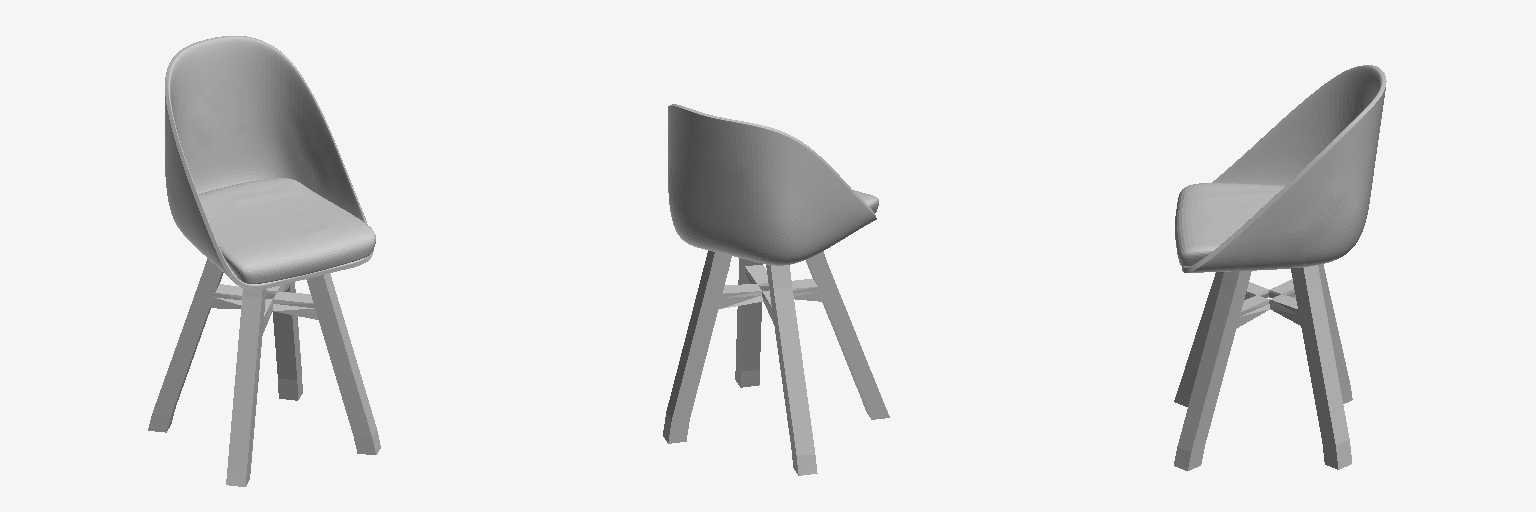
The model's file is Chair.obj.
The picture shows the model from 3 angles: view 1: azimuth 30°, elevation 25°; view 2: azimuth 150°, elevation 25°; view 3: azimuth 270°, elevation 25°; orthographic projection.
Bounding box in the file's own units: 1.76 × 3.76 × 2.05.